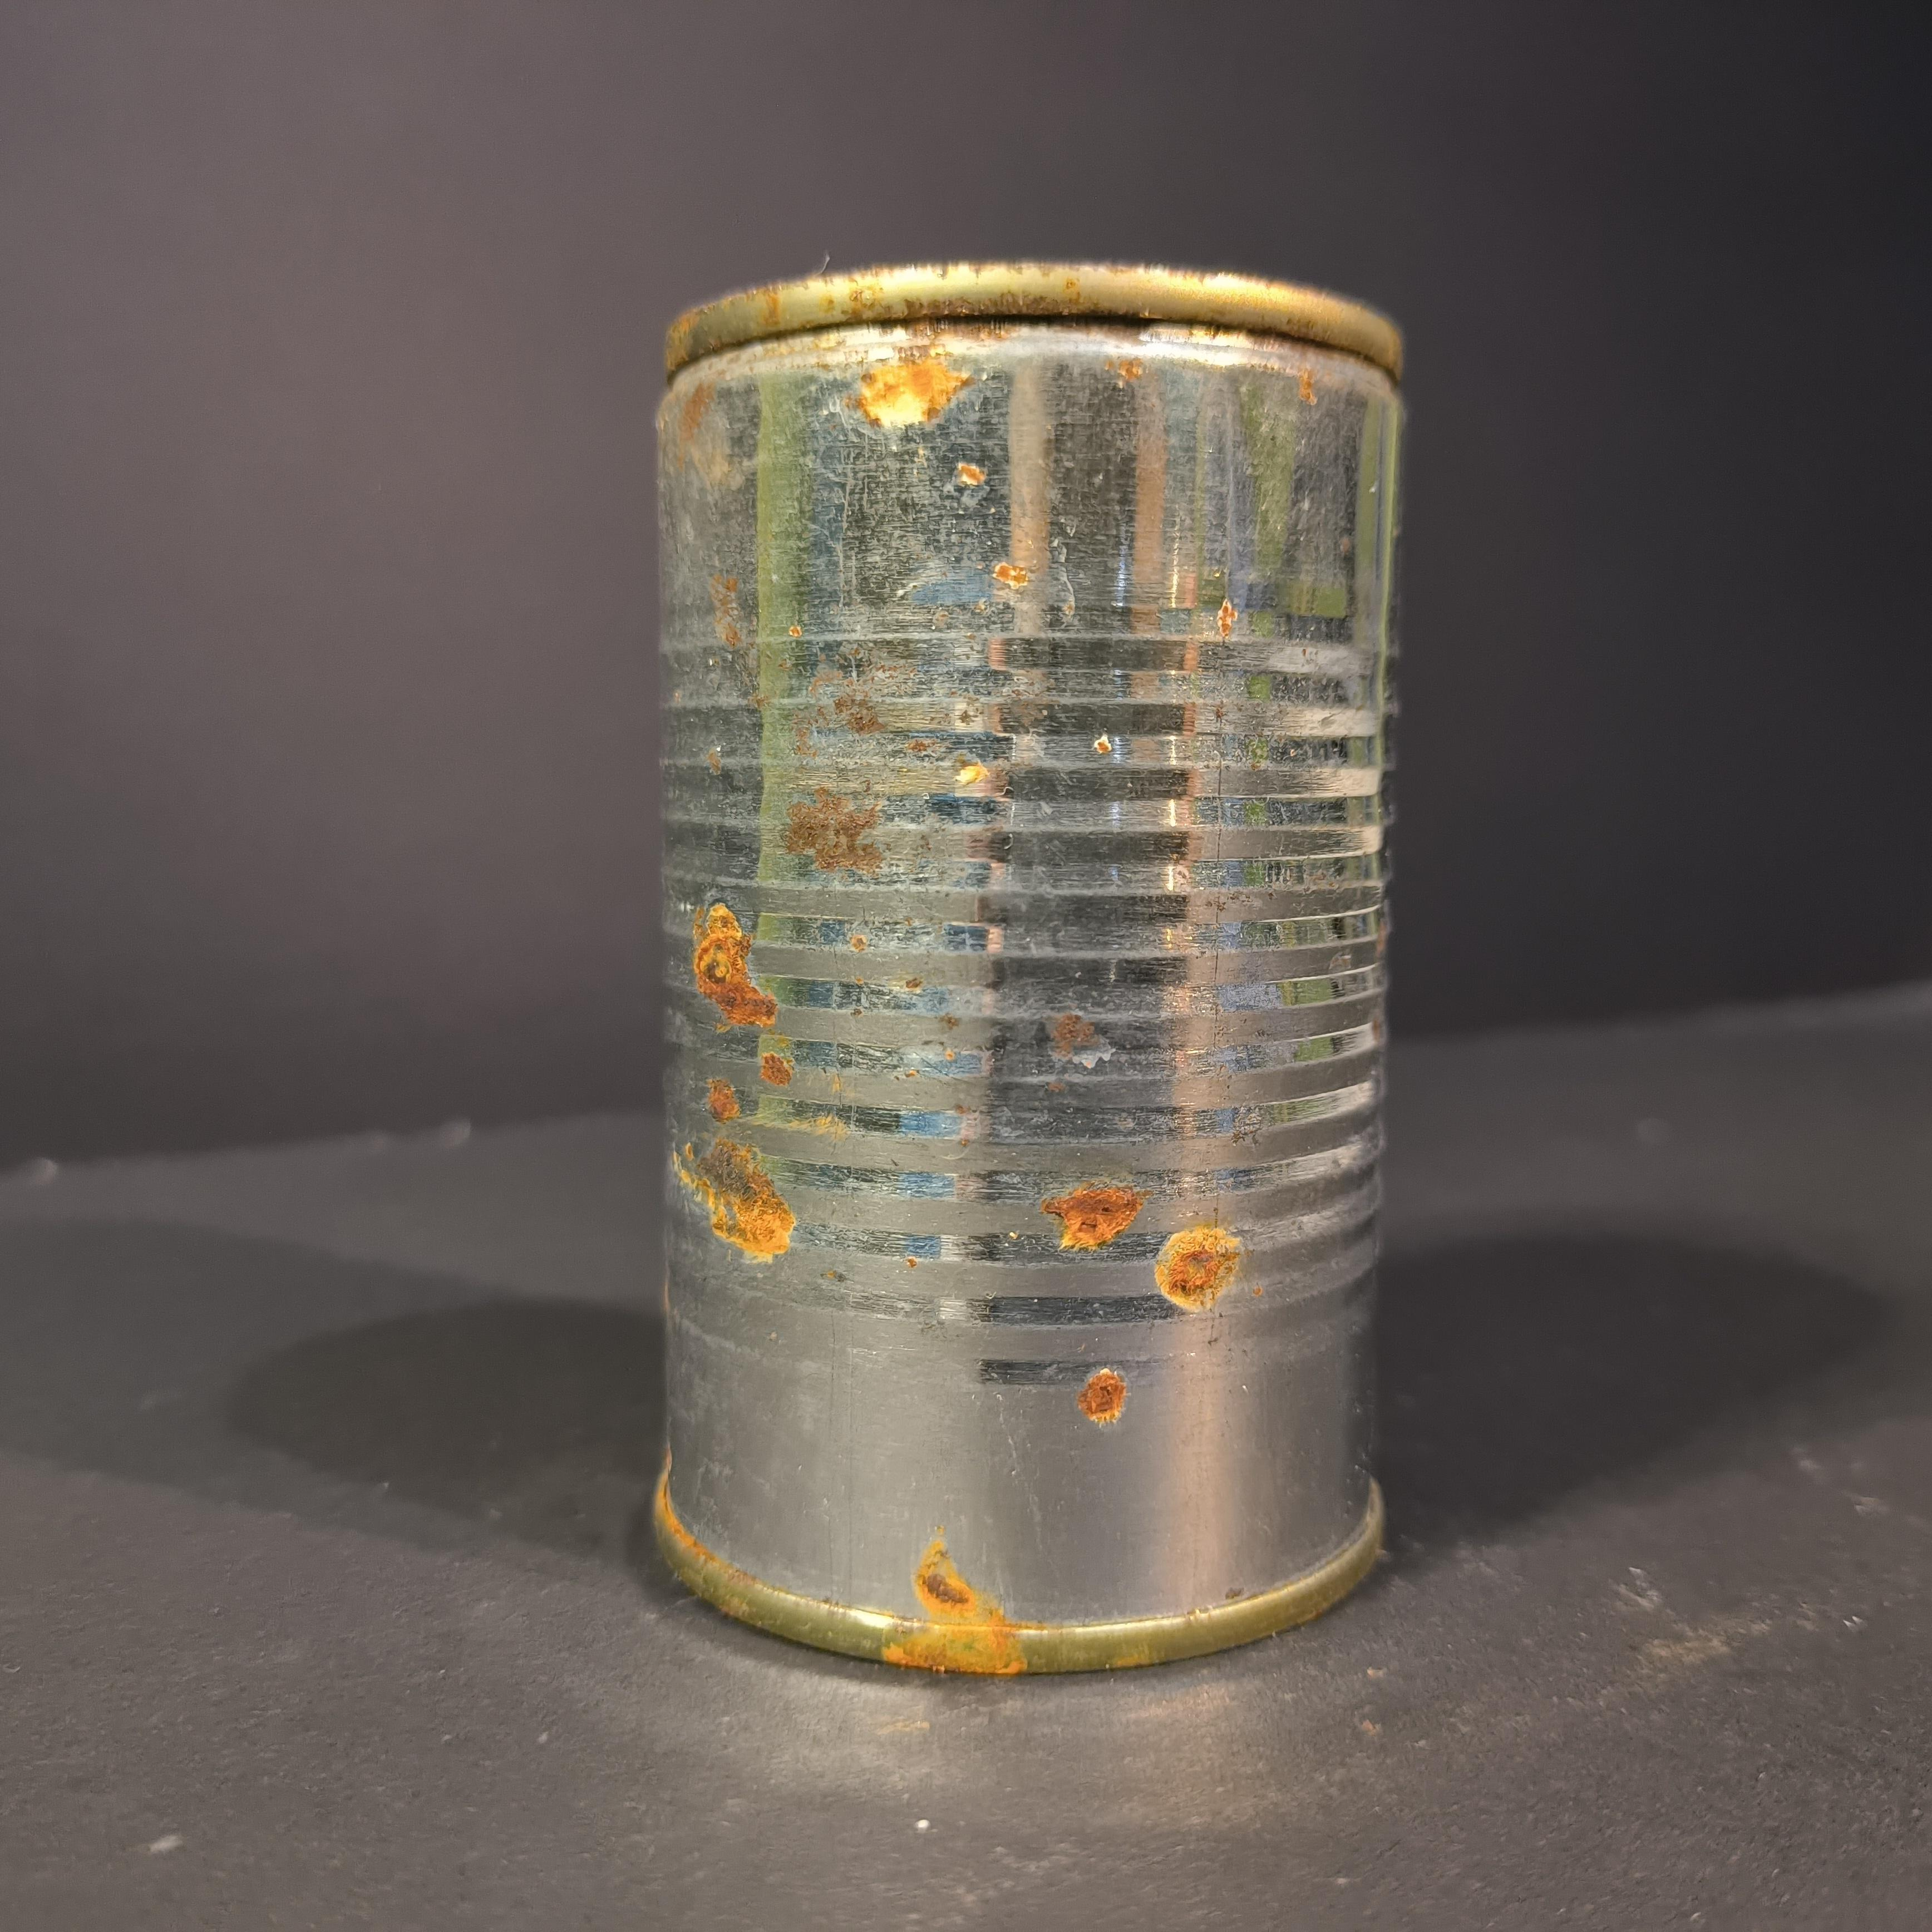Rusted: (637, 228, 1438, 1697)
